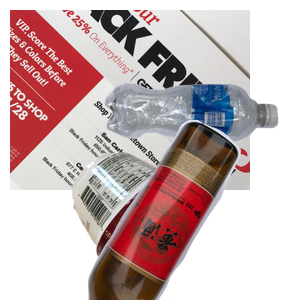glass: (85, 120, 300, 300)
paper: (10, 10, 250, 190)
plastic: (102, 81, 300, 216)
trash: (70, 149, 254, 300)
